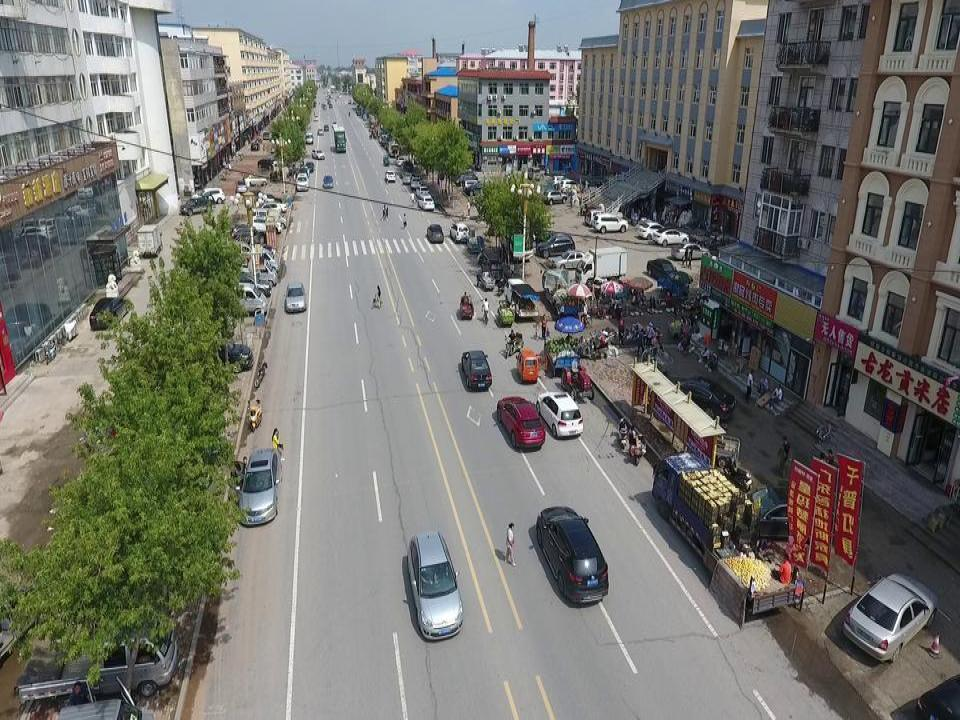car: (843, 571, 940, 661), (532, 505, 609, 604), (406, 529, 463, 640), (743, 485, 837, 544), (227, 446, 281, 526), (656, 375, 737, 421), (178, 334, 252, 373), (495, 395, 545, 449), (534, 392, 583, 439), (88, 295, 131, 329), (459, 349, 492, 388), (282, 281, 308, 312), (424, 221, 445, 243), (416, 194, 435, 210), (294, 173, 309, 192), (321, 172, 334, 189), (415, 185, 430, 199), (409, 176, 423, 188), (401, 173, 415, 184), (384, 170, 394, 182)
truck: (652, 447, 799, 612), (17, 619, 178, 701), (135, 221, 164, 259)
van: (56, 676, 158, 720)
